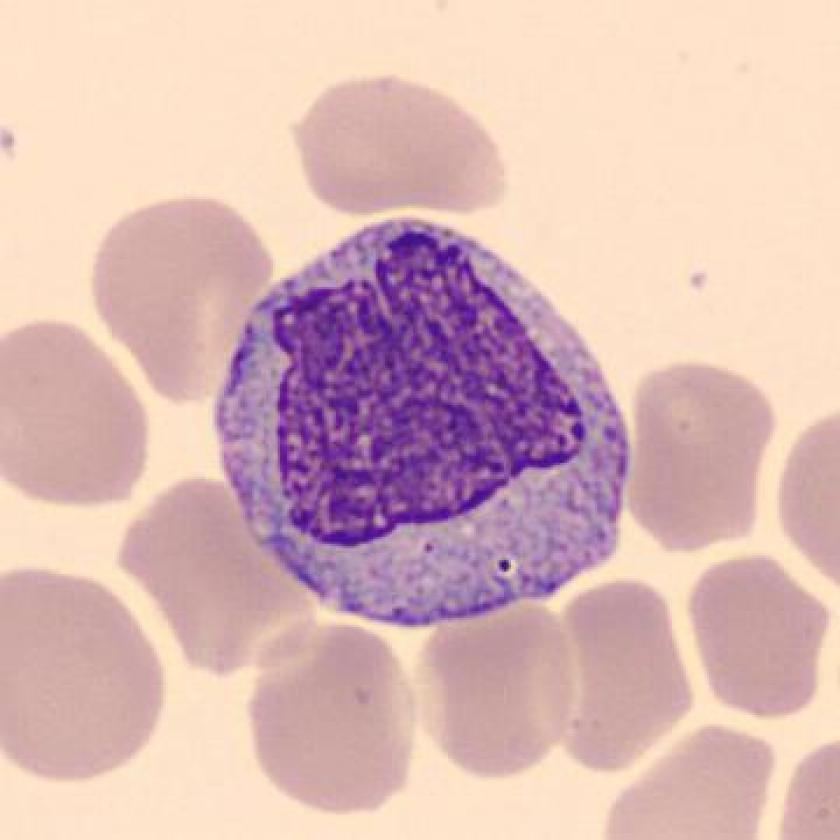monocyte: (197, 200, 645, 654)
